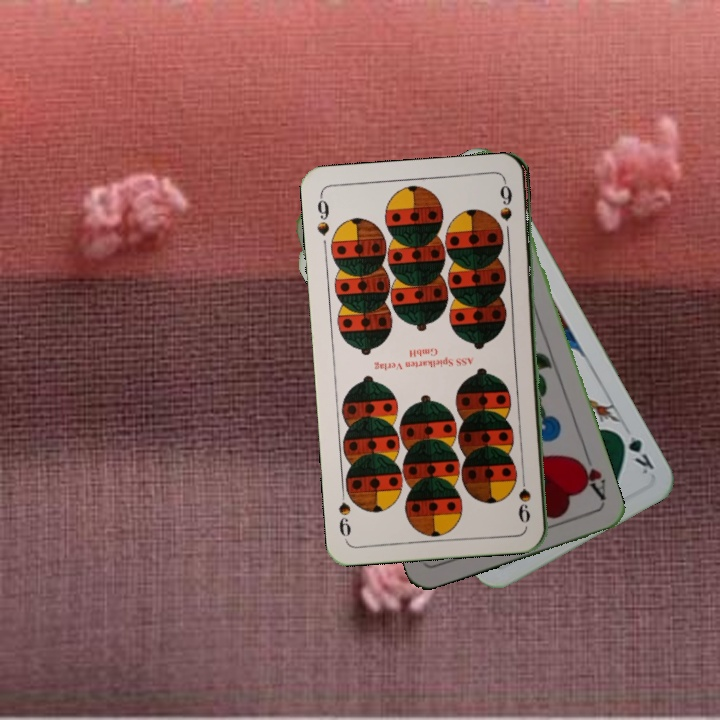GK: (613, 428, 657, 477)
HA: (572, 448, 609, 503)
S9: (516, 467, 533, 526), (313, 191, 332, 238)
